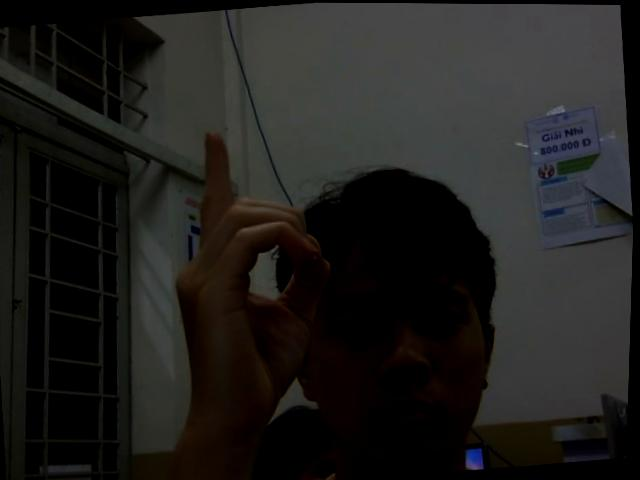D: (159, 117, 347, 426)
